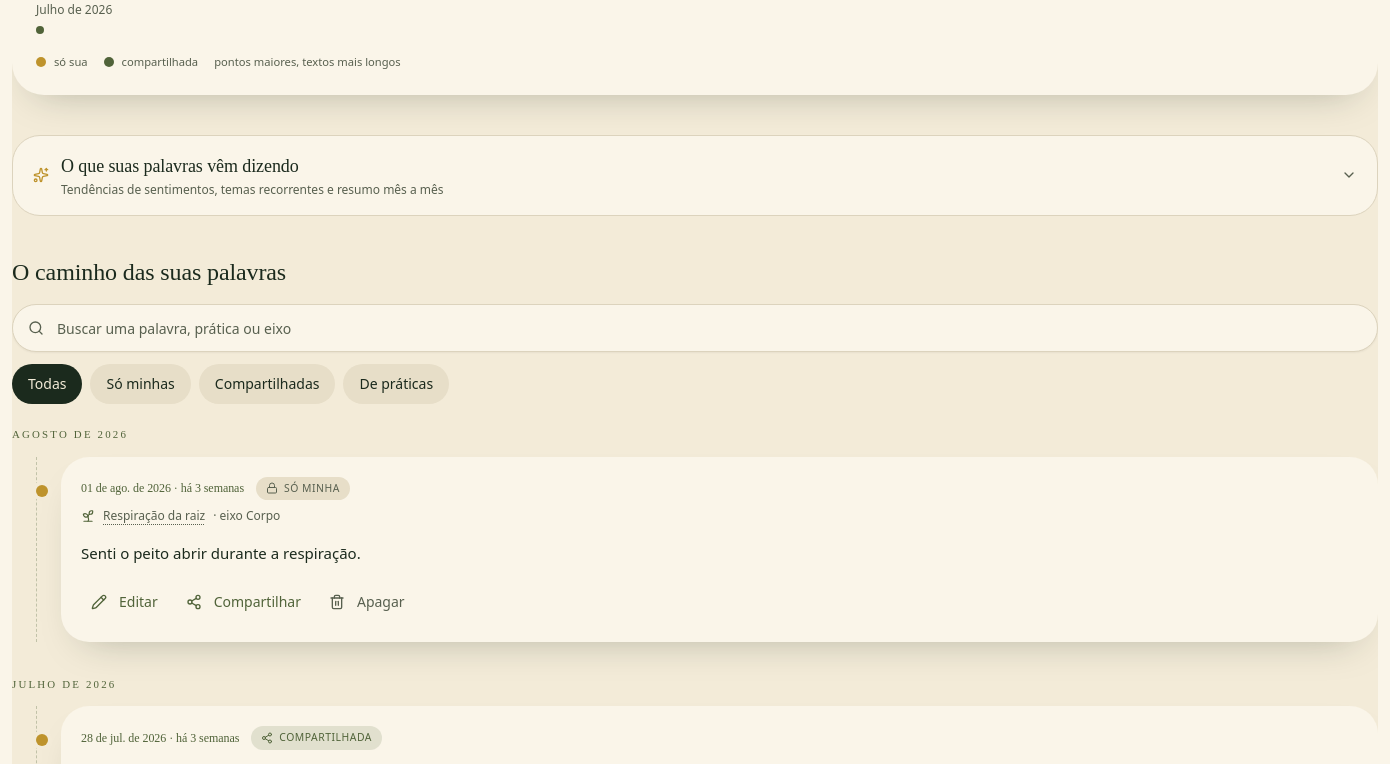
Test case: Diário de reflexão — privacidade e ações › filtra apenas as reflexões compartilhadas
(page scrolled)
Step 1. Click the button "Compartilhadas" → point(267, 384), box [199,364,335,404]
(page scrolled)
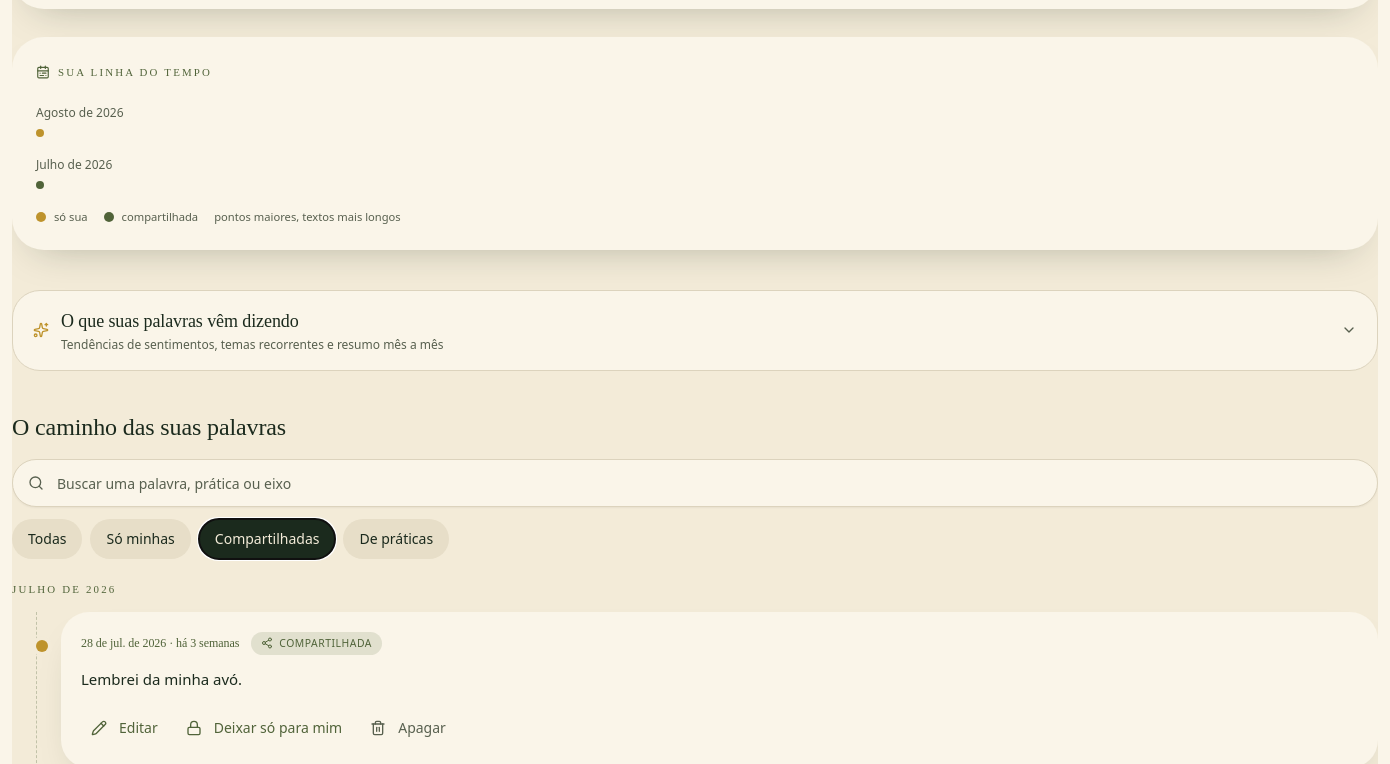
Expected: the text "Lembrei da minha avó." is shown, [81,669,242,689]
Result: the text "Senti o peito abrir durante a respiração." is gone
